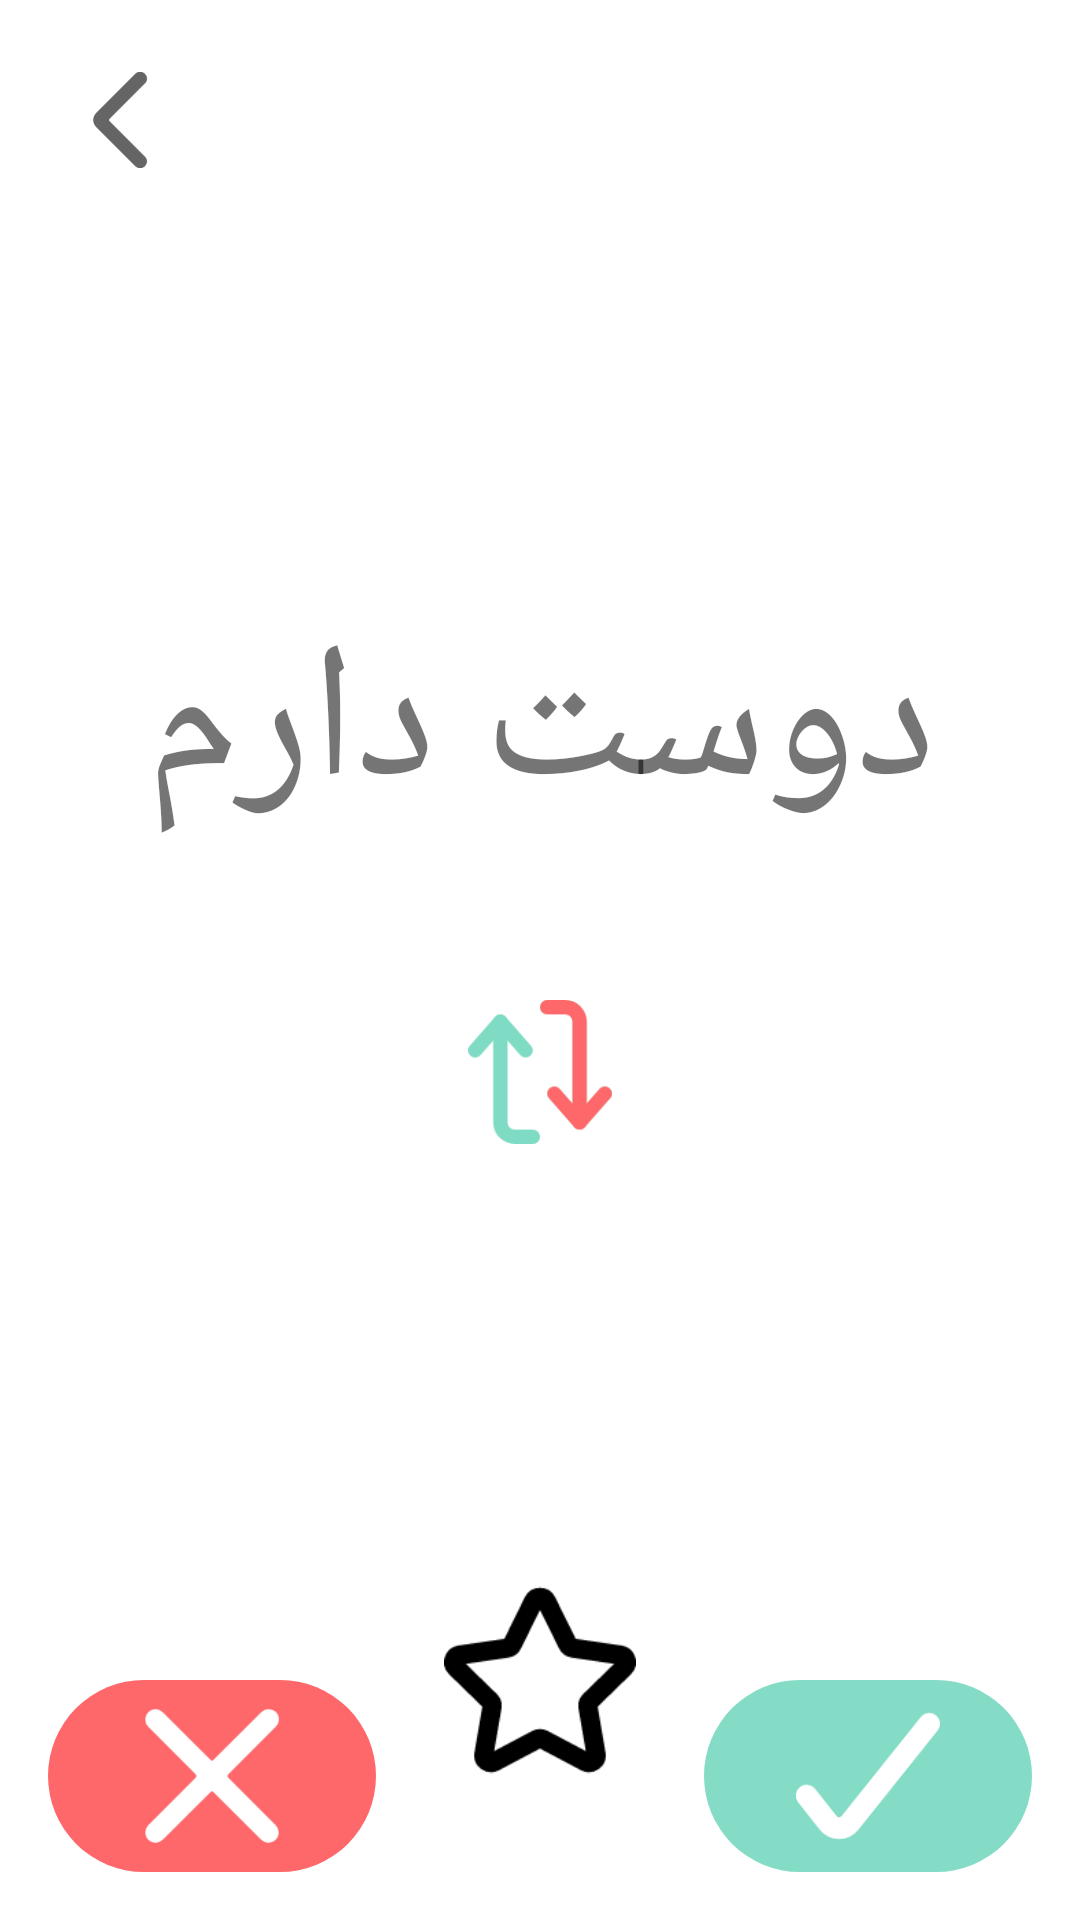

Icons on this 1080×1920 Android screen, each with the point to tap as point (x, y):
back: point (120, 120)
check: point (868, 1776)
flip: point (540, 1072)
nope: point (212, 1776)
star: point (540, 1680)
